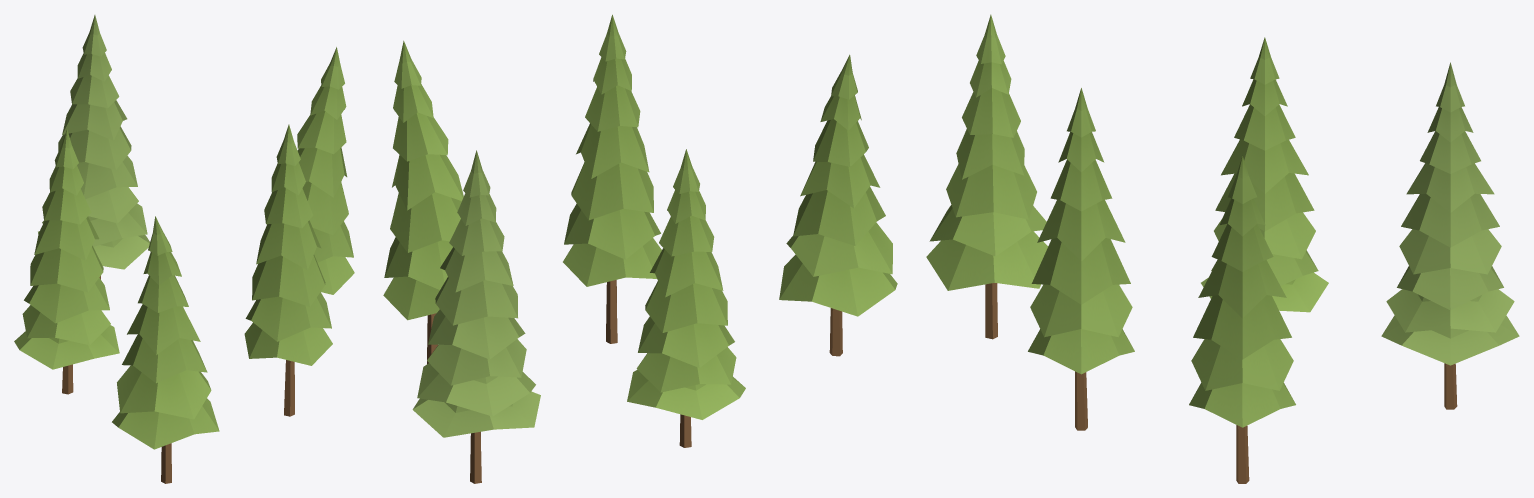
The model's file is trees_pine.glb.
3 views of the same model, side by side, from view 1: azimuth 30°, elevation 25°; view 2: azimuth 150°, elevation 25°; view 3: azimuth 270°, elevation 25° (orthographic). The views are drawn at different scales.
Parts seen in each view (by area): view 1: Pine_Tree_l_BT_02, Pine_Tree_l_BT_04, Pine_Tree_l_BT_03, Pine_Tree_l_BT_01, Pine_Tree_l_BT_05; view 2: Pine_Tree_l_BT_01, Pine_Tree_l_BT_02, Pine_Tree_l_BT_04, Pine_Tree_l_BT_03, Pine_Tree_l_BT_05; view 3: Pine_Tree_l_BT_01, Pine_Tree_l_BT_04, Pine_Tree_l_BT_03, Pine_Tree_l_BT_05, Pine_Tree_l_BT_02.
Part boxes in pixels (x1=…): Pine_Tree_l_BT_02: x1=14, y1=129, x2=119, y2=394; Pine_Tree_l_BT_04: x1=112, y1=216, x2=219, y2=483; Pine_Tree_l_BT_03: x1=244, y1=124, x2=332, y2=416; Pine_Tree_l_BT_01: x1=38, y1=15, x2=149, y2=279; Pine_Tree_l_BT_05: x1=297, y1=47, x2=354, y2=294; Pine_Tree_l_BT_01: x1=412, y1=150, x2=540, y2=483; Pine_Tree_l_BT_02: x1=627, y1=149, x2=745, y2=447; Pine_Tree_l_BT_04: x1=779, y1=54, x2=897, y2=356; Pine_Tree_l_BT_03: x1=563, y1=14, x2=661, y2=343; Pine_Tree_l_BT_05: x1=383, y1=40, x2=463, y2=363; Pine_Tree_l_BT_01: x1=1381, y1=62, x2=1519, y2=409; Pine_Tree_l_BT_04: x1=926, y1=14, x2=1047, y2=339; Pine_Tree_l_BT_03: x1=1028, y1=88, x2=1134, y2=430; Pine_Tree_l_BT_05: x1=1189, y1=156, x2=1295, y2=483; Pine_Tree_l_BT_02: x1=1201, y1=37, x2=1328, y2=312.
Size of the model in its own units: 23.94 by 19.84 by 30.76.
1 material, 1 textured.
